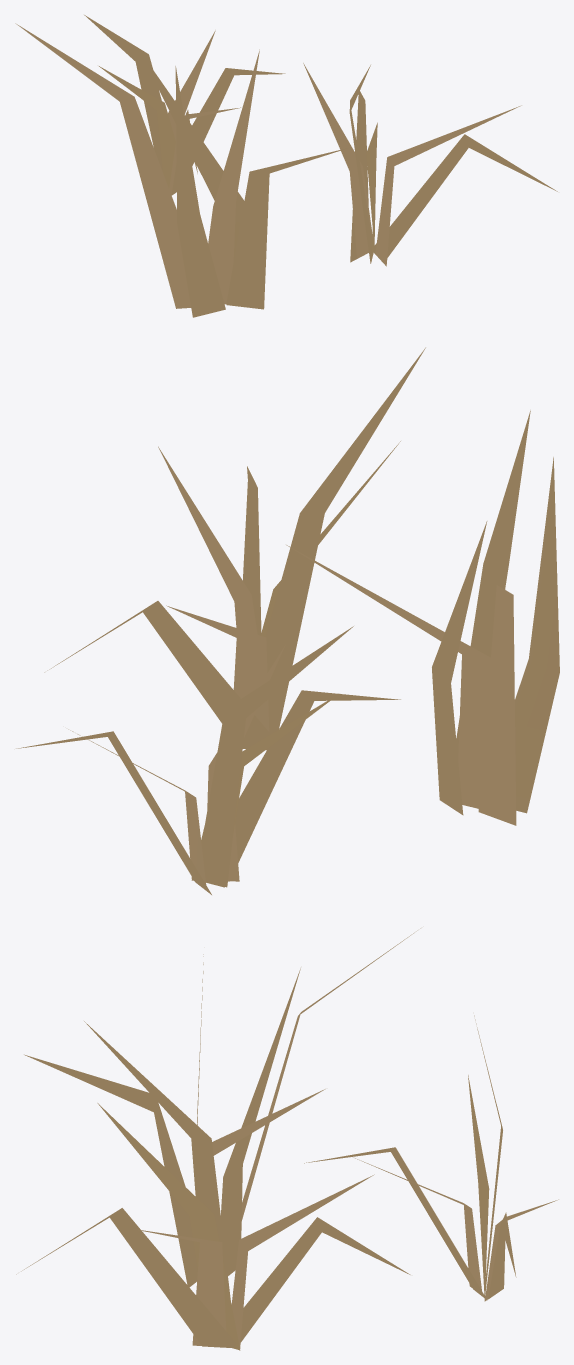
File: Grass_g_TwoS_05.fbx
3 views of the same model, one above another, from view 1: azimuth 30°, elevation 25°; view 2: azimuth 150°, elevation 25°; view 3: azimuth 270°, elevation 25° (orthographic). The views are drawn at different scales.
Visible parts, largest first — view 1: Grass_g_TwoS_05; view 2: Grass_g_TwoS_05; view 3: Grass_g_TwoS_05.
Part boxes in pixels (bbox=[...]): Grass_g_TwoS_05: bbox=[15, 15, 557, 317]; Grass_g_TwoS_05: bbox=[16, 347, 559, 894]; Grass_g_TwoS_05: bbox=[16, 928, 558, 1350].
Size of the model in its own units: 0.7798 by 0.5188 by 0.8481.
